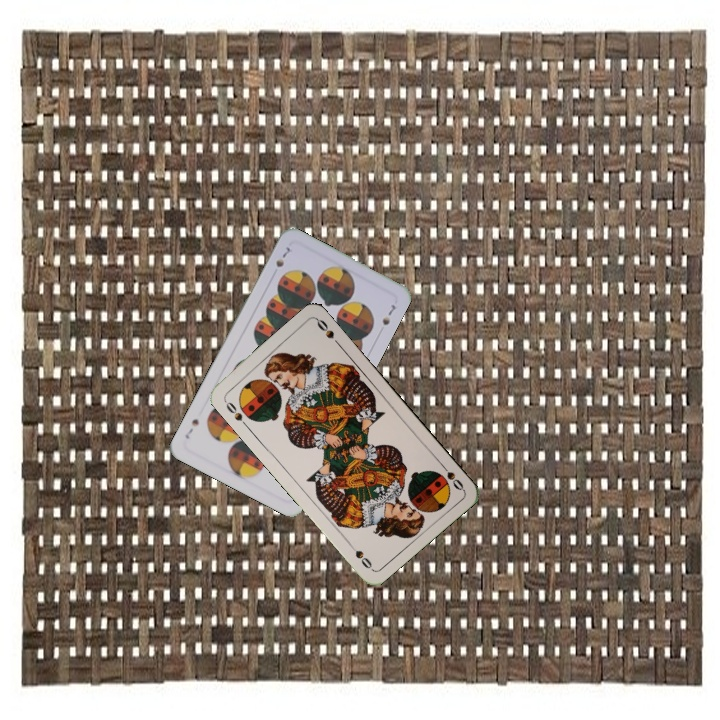S7: (272, 242, 293, 270)
SO: (436, 459, 466, 493), (220, 395, 250, 429)
